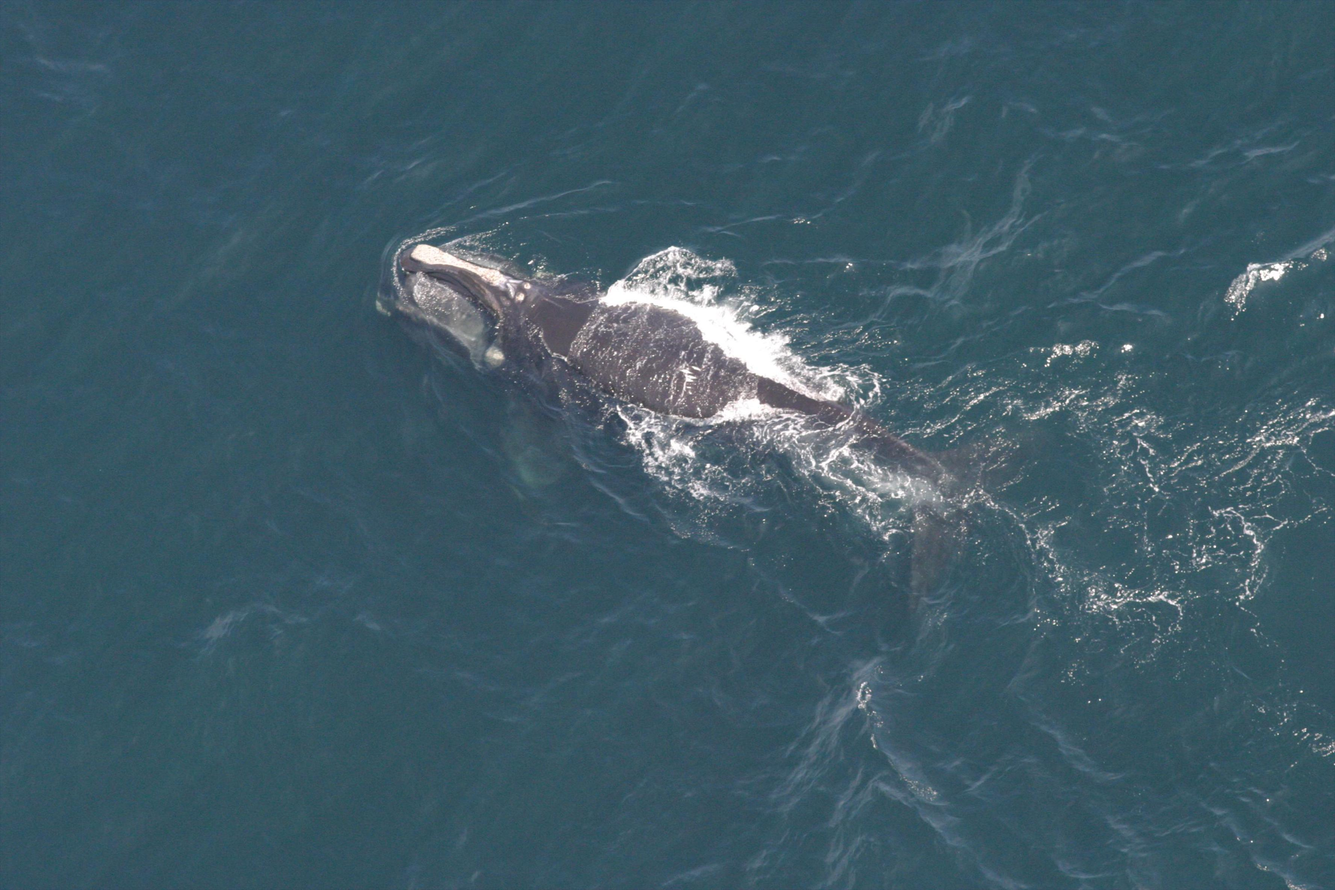whale: (383, 225, 1095, 676)
